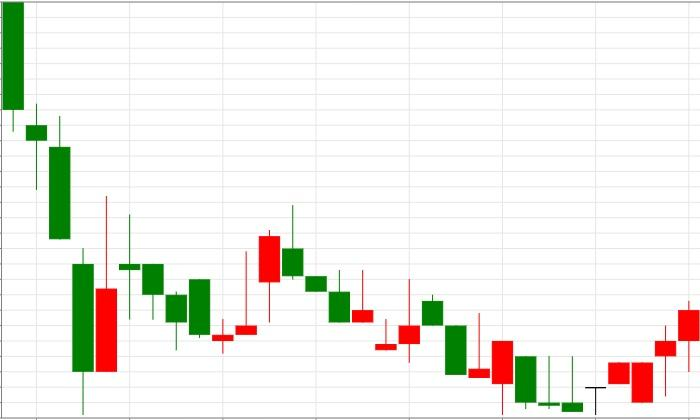shooting_star_fall: (212, 204, 303, 354)
